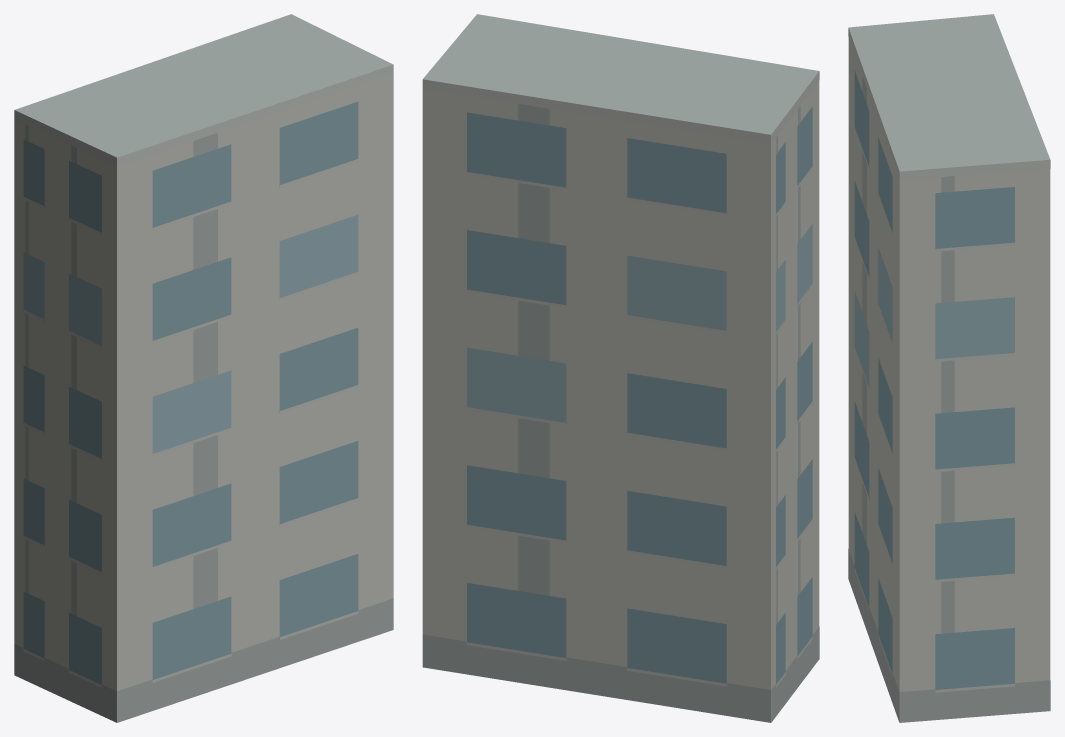
The model's file is survey-upis-32818404.glb.
3 renders of one model, left to right at view 1: azimuth 30°, elevation 25°; view 2: azimuth 150°, elevation 25°; view 3: azimuth 270°, elevation 25°, orthographic. The views are drawn at different scales.
Visible parts, largest first — view 1: survey-upis-32818404.tmp; view 2: survey-upis-32818404.tmp; view 3: survey-upis-32818404.tmp.
Boxes of the visible parts, bbox=[...] form: survey-upis-32818404.tmp: bbox=[14, 14, 393, 722]; survey-upis-32818404.tmp: bbox=[422, 14, 819, 722]; survey-upis-32818404.tmp: bbox=[848, 14, 1050, 722].
Bounding box in the file's own units: 9.35 × 15.25 × 5.08.
